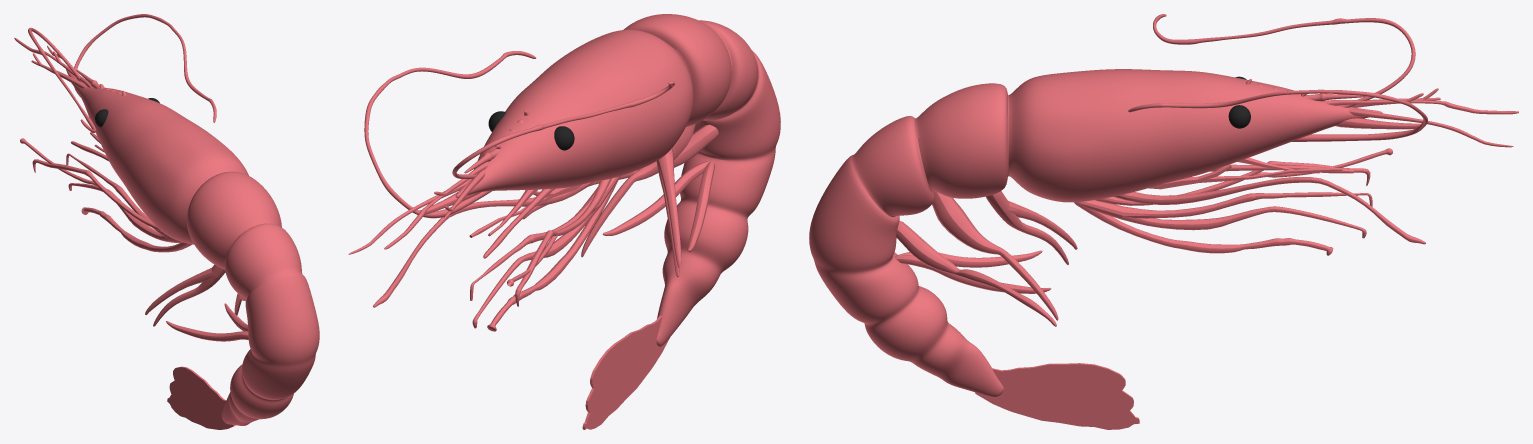
Rendered from Shrimp.fbx.
3 views of the same model, side by side, from view 1: azimuth 30°, elevation 25°; view 2: azimuth 150°, elevation 25°; view 3: azimuth 270°, elevation 25° (orthographic). The views are drawn at different scales.
Parts seen in each view (by area): view 1: Shrimp; view 2: Shrimp; view 3: Shrimp.
Boxes of the visible parts, x1,y1,x2,y2 form: Shrimp: (14, 14, 319, 429); Shrimp: (348, 14, 780, 429); Shrimp: (809, 14, 1518, 429).
Bounding box in the file's own units: 119 × 224 × 373.
